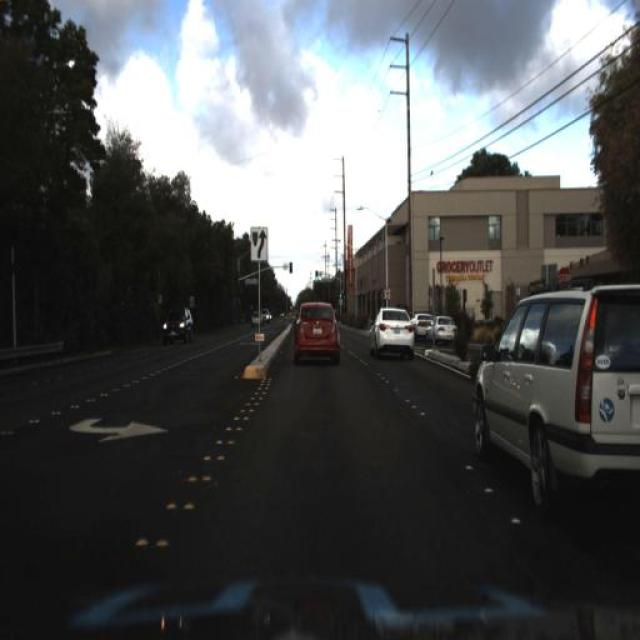car: (473, 268, 639, 577), (280, 296, 346, 372), (360, 298, 416, 372), (160, 300, 194, 340), (426, 314, 455, 347), (410, 309, 432, 341), (244, 308, 265, 334)
